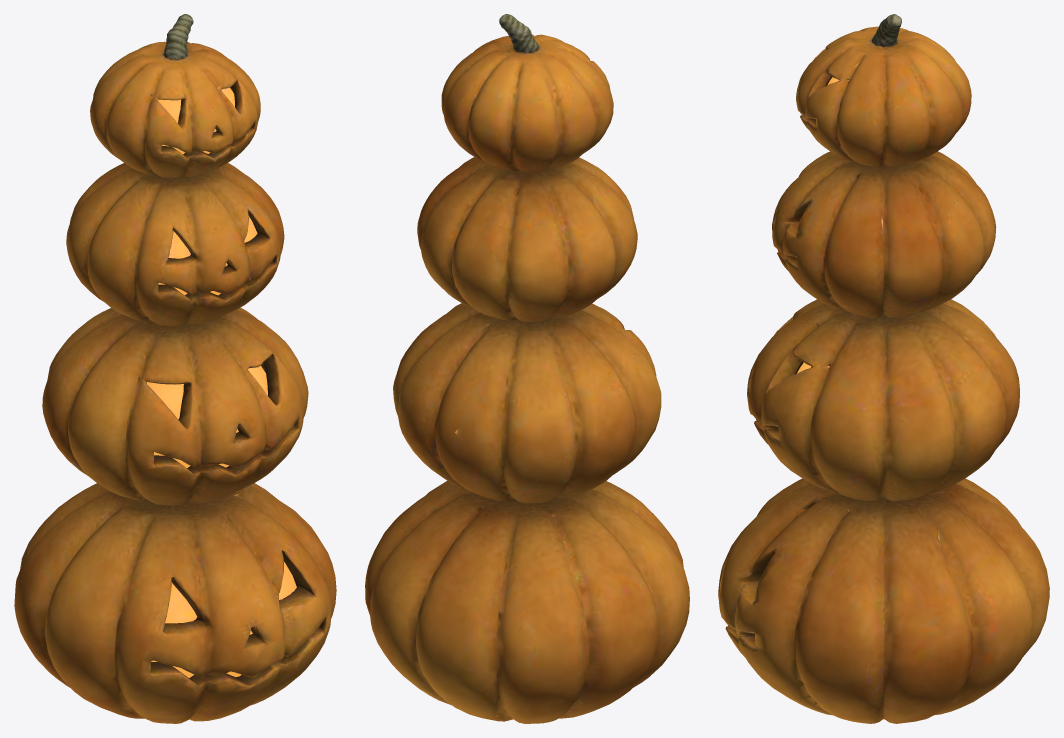
File: pumpkin_totem.glb
The picture shows the model from 3 angles, left to right: view 1: azimuth 30°, elevation 25°; view 2: azimuth 150°, elevation 25°; view 3: azimuth 270°, elevation 25°; orthographic projection. The views are drawn at different scales.
Visible parts, largest first — view 1: Totem0_Shell, Totem1_Shell, Totem2_Shell, Totem3_Shell, Totem0_Glow, Totem1_Glow, Totem3_Stem, Totem2_Glow; view 2: Totem0_Shell, Totem1_Shell, Totem2_Shell, Totem3_Shell, Totem3_Stem; view 3: Totem0_Shell, Totem1_Shell, Totem2_Shell, Totem3_Shell, Totem3_Stem.
Boxes of the visible parts, <box> form: Totem0_Shell: <box>14,483,336,723</box>; Totem1_Shell: <box>42,307,308,505</box>; Totem2_Shell: <box>66,163,284,326</box>; Totem3_Shell: <box>90,41,260,178</box>; Totem0_Glow: <box>151,562,296,677</box>; Totem1_Glow: <box>146,365,267,467</box>; Totem3_Stem: <box>163,14,193,60</box>; Totem2_Glow: <box>158,216,257,295</box>; Totem0_Shell: <box>365,480,689,723</box>; Totem1_Shell: <box>393,303,661,503</box>; Totem2_Shell: <box>417,157,637,322</box>; Totem3_Shell: <box>441,34,613,172</box>; Totem3_Stem: <box>499,14,538,53</box>; Totem0_Shell: <box>718,478,1049,723</box>; Totem1_Shell: <box>747,299,1019,501</box>; Totem2_Shell: <box>772,151,996,317</box>; Totem3_Shell: <box>796,26,971,166</box>; Totem3_Stem: <box>872,14,901,46</box>.
Size of the model in its own units: 0.6502 by 1.54 by 0.6615.
1 material, 1 textured.
